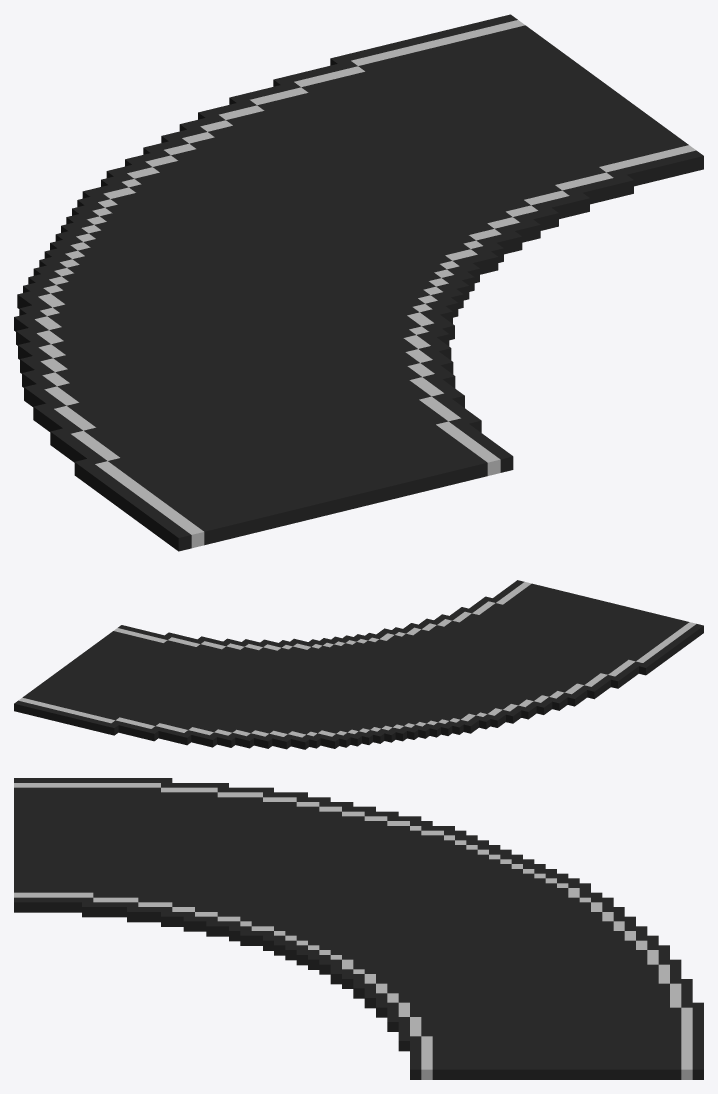
File: road-rounded-curve-large-4.gltf
3 views of the same model, one above another, from view 1: azimuth 30°, elevation 25°; view 2: azimuth 150°, elevation 25°; view 3: azimuth 270°, elevation 25° (orthographic). The views are drawn at different scales.
Parts seen in each view (by area): view 1: road-rounded-curve-large-4; view 2: road-rounded-curve-large-4; view 3: road-rounded-curve-large-4.
Boxes of the visible parts, left/top/right/bottom form: road-rounded-curve-large-4: left=14, top=14, right=703, bottom=551; road-rounded-curve-large-4: left=14, top=580, right=703, bottom=749; road-rounded-curve-large-4: left=14, top=778, right=703, bottom=1079.
Size of the model in its own units: 6.1 by 0.1 by 6.1.
Materials: 1 (1 with a texture image).
